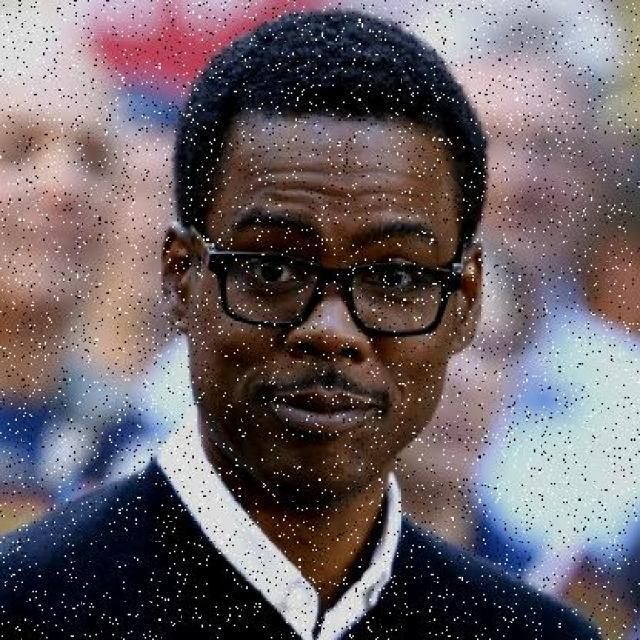glasses: (196, 239, 470, 344)
